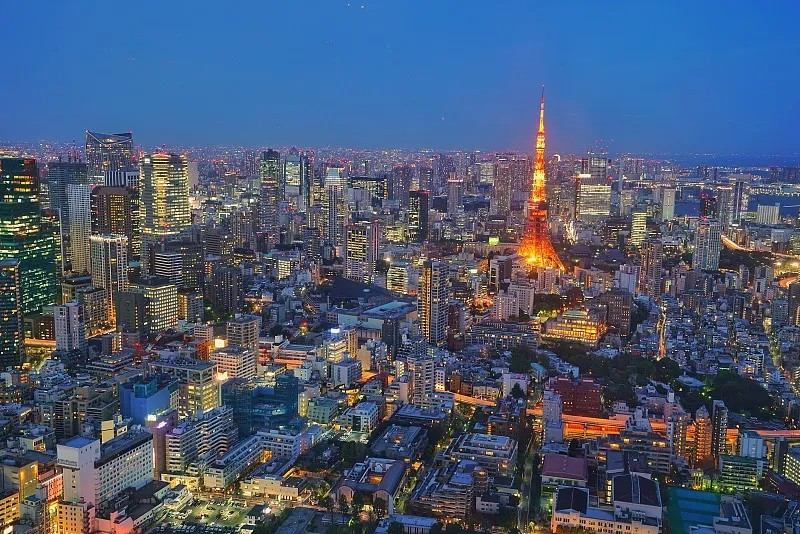Tokyo: (515, 83, 565, 274)
